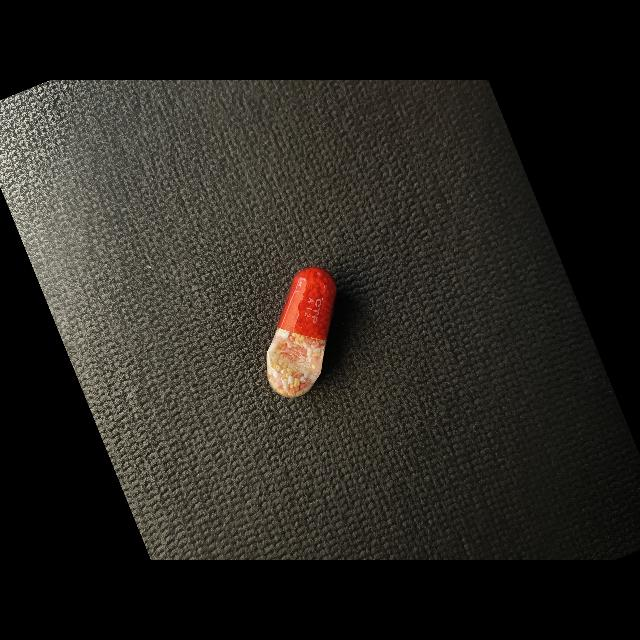Defective Capsule: (266, 267, 336, 398)
